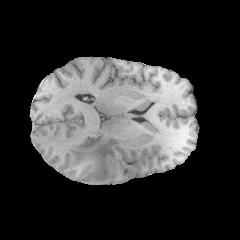glioma: (63, 138, 119, 182)
